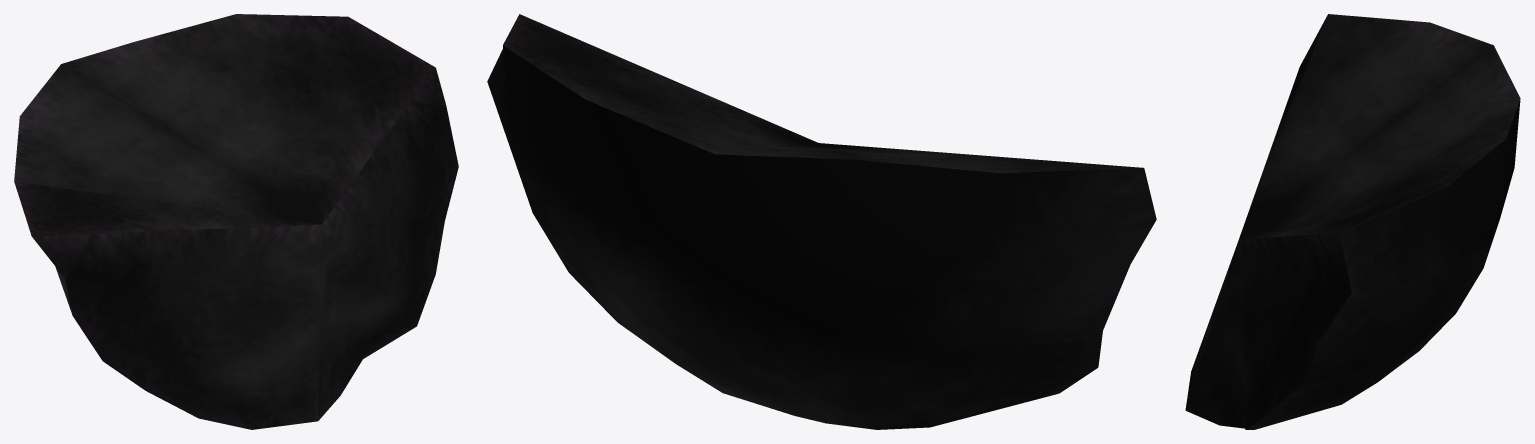
File: orbpiece_obsidian.dae
The picture shows the model from 3 angles, left to right: view 1: azimuth 30°, elevation 25°; view 2: azimuth 150°, elevation 25°; view 3: azimuth 270°, elevation 25°; orthographic projection. The views are drawn at different scales.
Parts seen in each view (by area): view 1: orb2; view 2: orb2; view 3: orb2.
Part boxes in pixels (x1,y1,x2,y2): orb2: (14,14,458,429); orb2: (487,14,1156,429); orb2: (1185,14,1520,429).
Bounding box in the file's own units: 0.3605 × 0.2199 × 0.2178.
